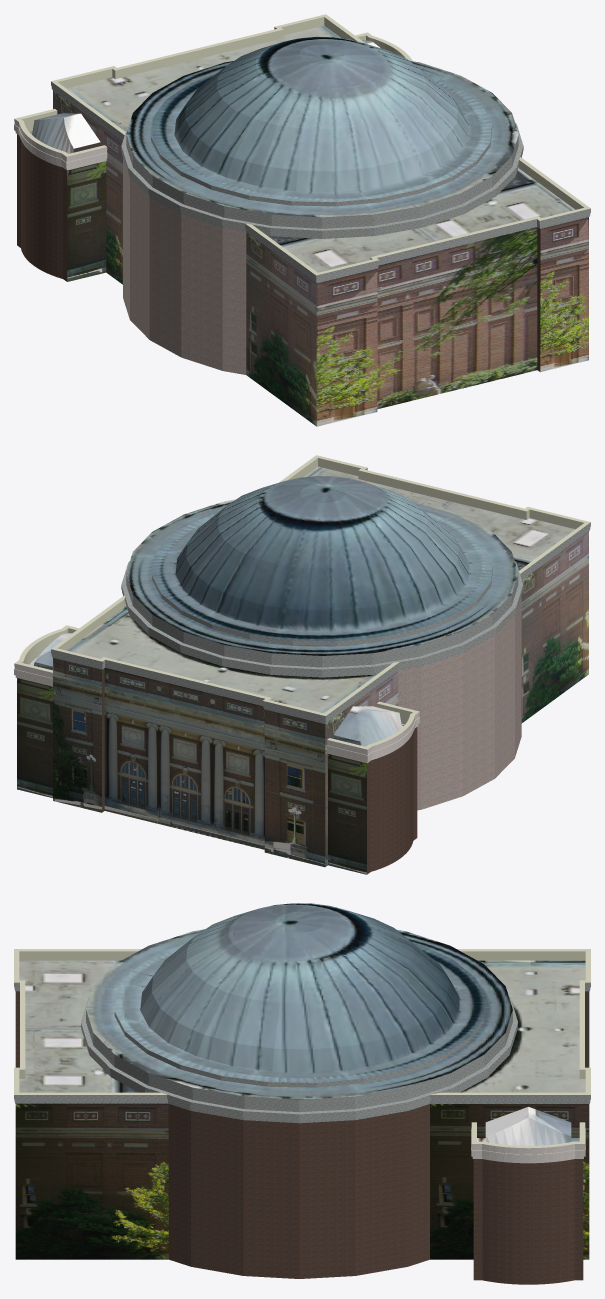
File: foellinger.fbx
3 views of the same model, one above another, from view 1: azimuth 30°, elevation 25°; view 2: azimuth 150°, elevation 25°; view 3: azimuth 270°, elevation 25° (orthographic). The views are drawn at different scales.
Parts seen in each view (by area): view 1: skpoc6ILE1; view 2: skpoc6ILE1; view 3: skpoc6ILE1.
Boxes of the visible parts, left/top/right/bottom form: skpoc6ILE1: left=14, top=14, right=590, bottom=426; skpoc6ILE1: left=14, top=455, right=590, bottom=874; skpoc6ILE1: left=14, top=903, right=590, bottom=1284.
Size of the model in its own units: 1620 by 1019 by 2010.
